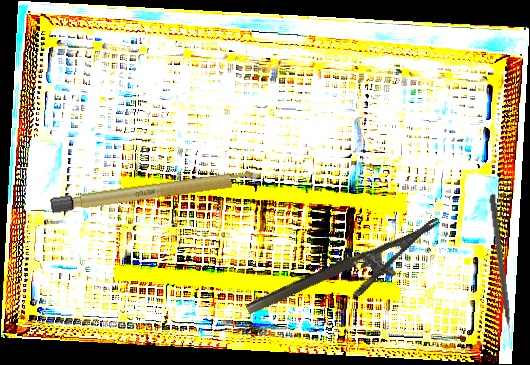Needle Holder: (244, 217, 454, 340)
Pusher: (487, 194, 515, 350)
Scalpel Handle: (48, 168, 265, 214)
